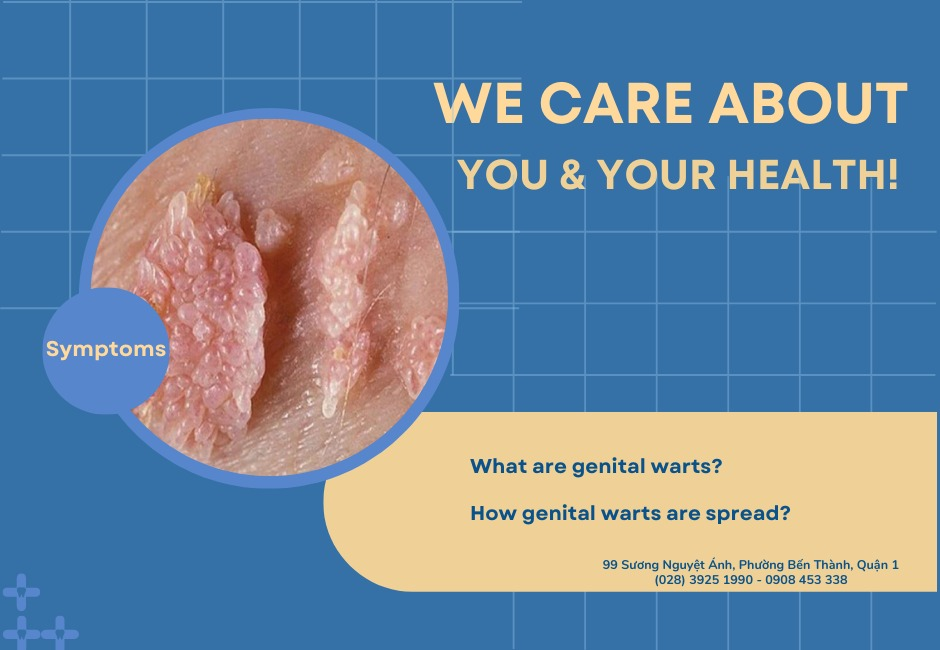Warts: (80, 159, 172, 421)
